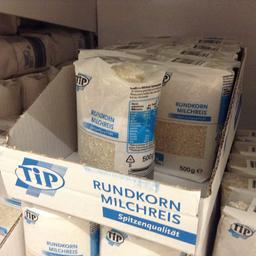rice: (71, 54, 158, 178), (150, 57, 233, 182)
